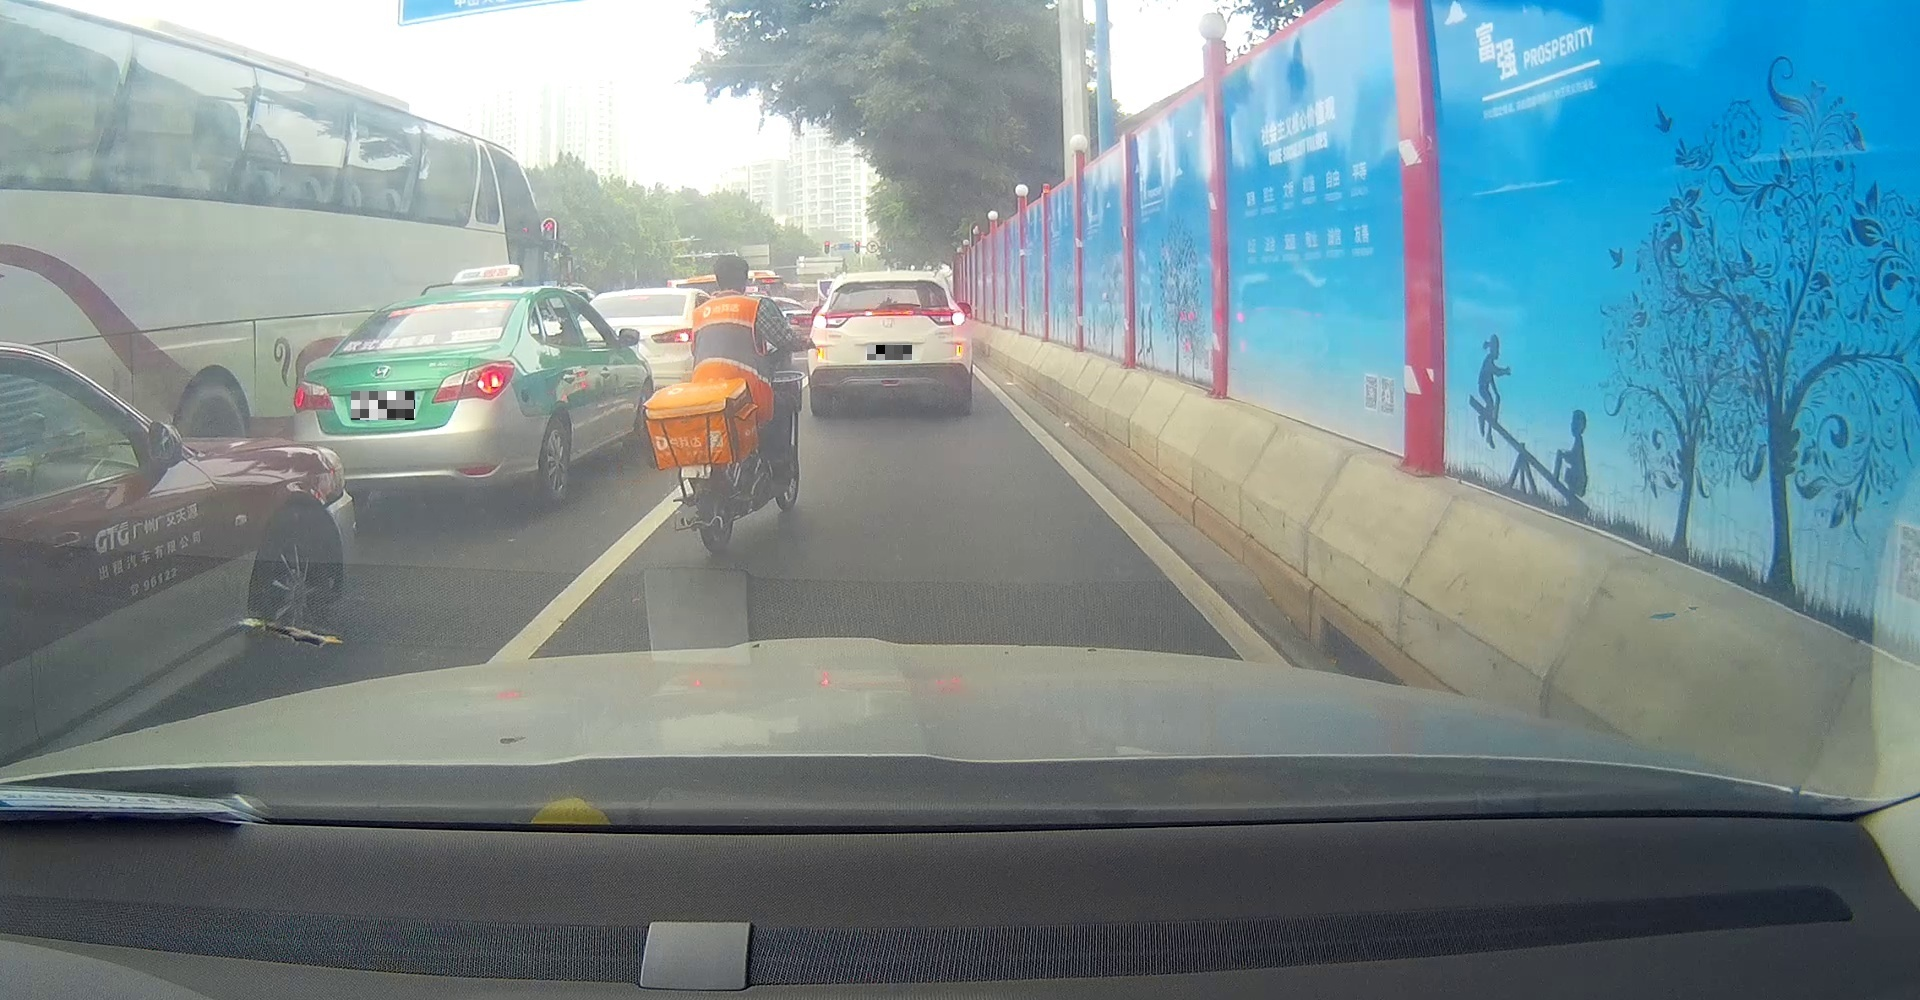L_light: (293, 379, 334, 414), (813, 312, 852, 329)
R_light: (430, 360, 514, 404), (922, 308, 966, 326)
T_light: (869, 308, 913, 315), (424, 305, 453, 311)
day-brake: (292, 286, 521, 519), (808, 272, 971, 418)
plate_1: (350, 391, 415, 420)
plate_2: (867, 345, 912, 360)
